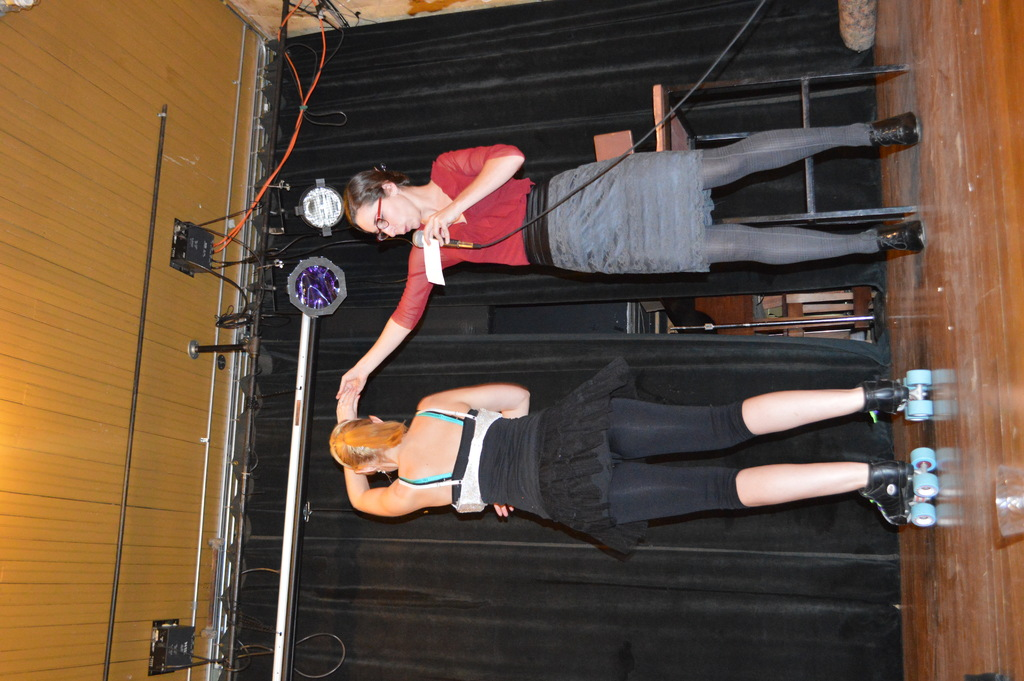Person: (335, 111, 924, 399), (329, 357, 913, 554)
